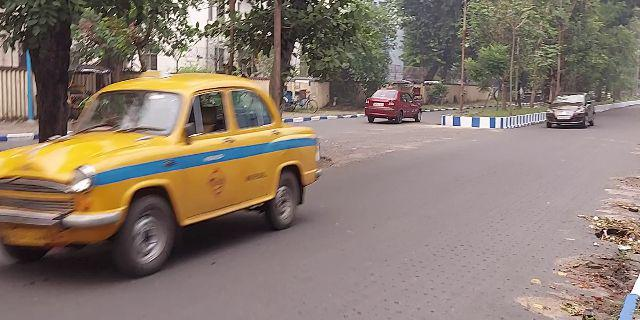Car: (2, 75, 325, 268), (358, 83, 426, 129), (545, 87, 599, 128)
